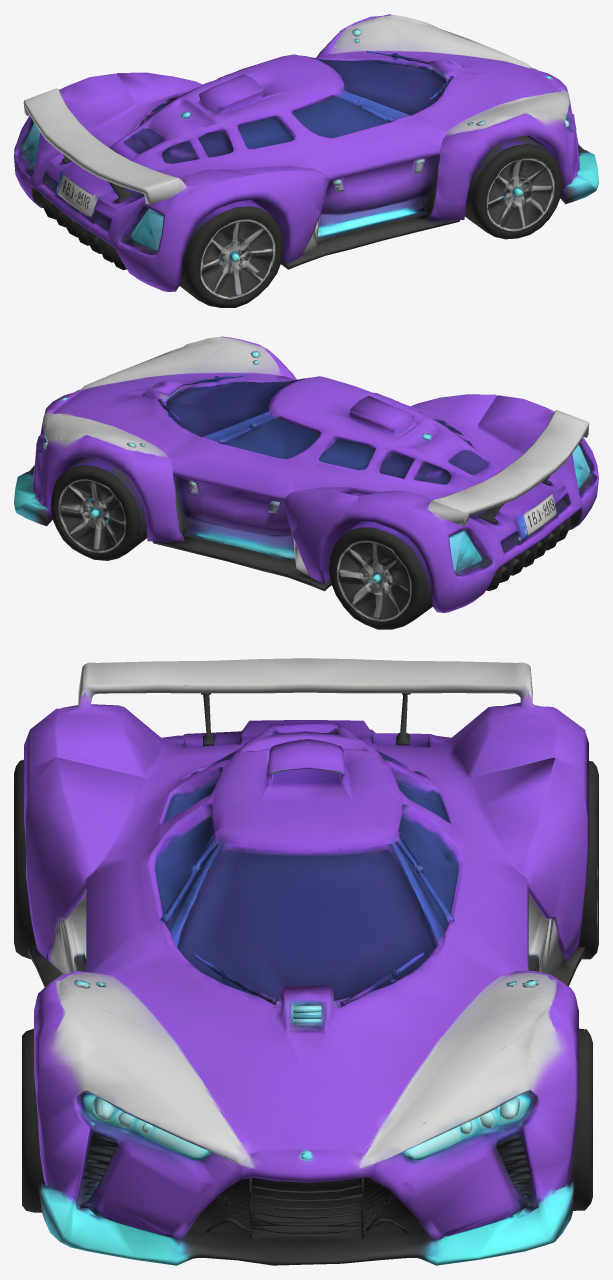
File: nova-forge.glb
The picture shows the model from 3 angles, top to bottom: view 1: azimuth 30°, elevation 25°; view 2: azimuth 150°, elevation 25°; view 3: azimuth 270°, elevation 25°; orthographic projection. The views are drawn at different scales.
Visible parts, largest first — view 1: tripo_node_4249911c-78b5-4d54-a8a3-ffc2e1c3bd22; view 2: tripo_node_4249911c-78b5-4d54-a8a3-ffc2e1c3bd22; view 3: tripo_node_4249911c-78b5-4d54-a8a3-ffc2e1c3bd22.
Part boxes in pixels (x1,y1,x2,y2): tripo_node_4249911c-78b5-4d54-a8a3-ffc2e1c3bd22: (14, 14, 598, 307); tripo_node_4249911c-78b5-4d54-a8a3-ffc2e1c3bd22: (14, 336, 598, 629); tripo_node_4249911c-78b5-4d54-a8a3-ffc2e1c3bd22: (14, 658, 598, 1265).
Size of the model in its own units: 0.998 by 0.291 by 0.5684.
Materials: 1 (1 with a texture image).
